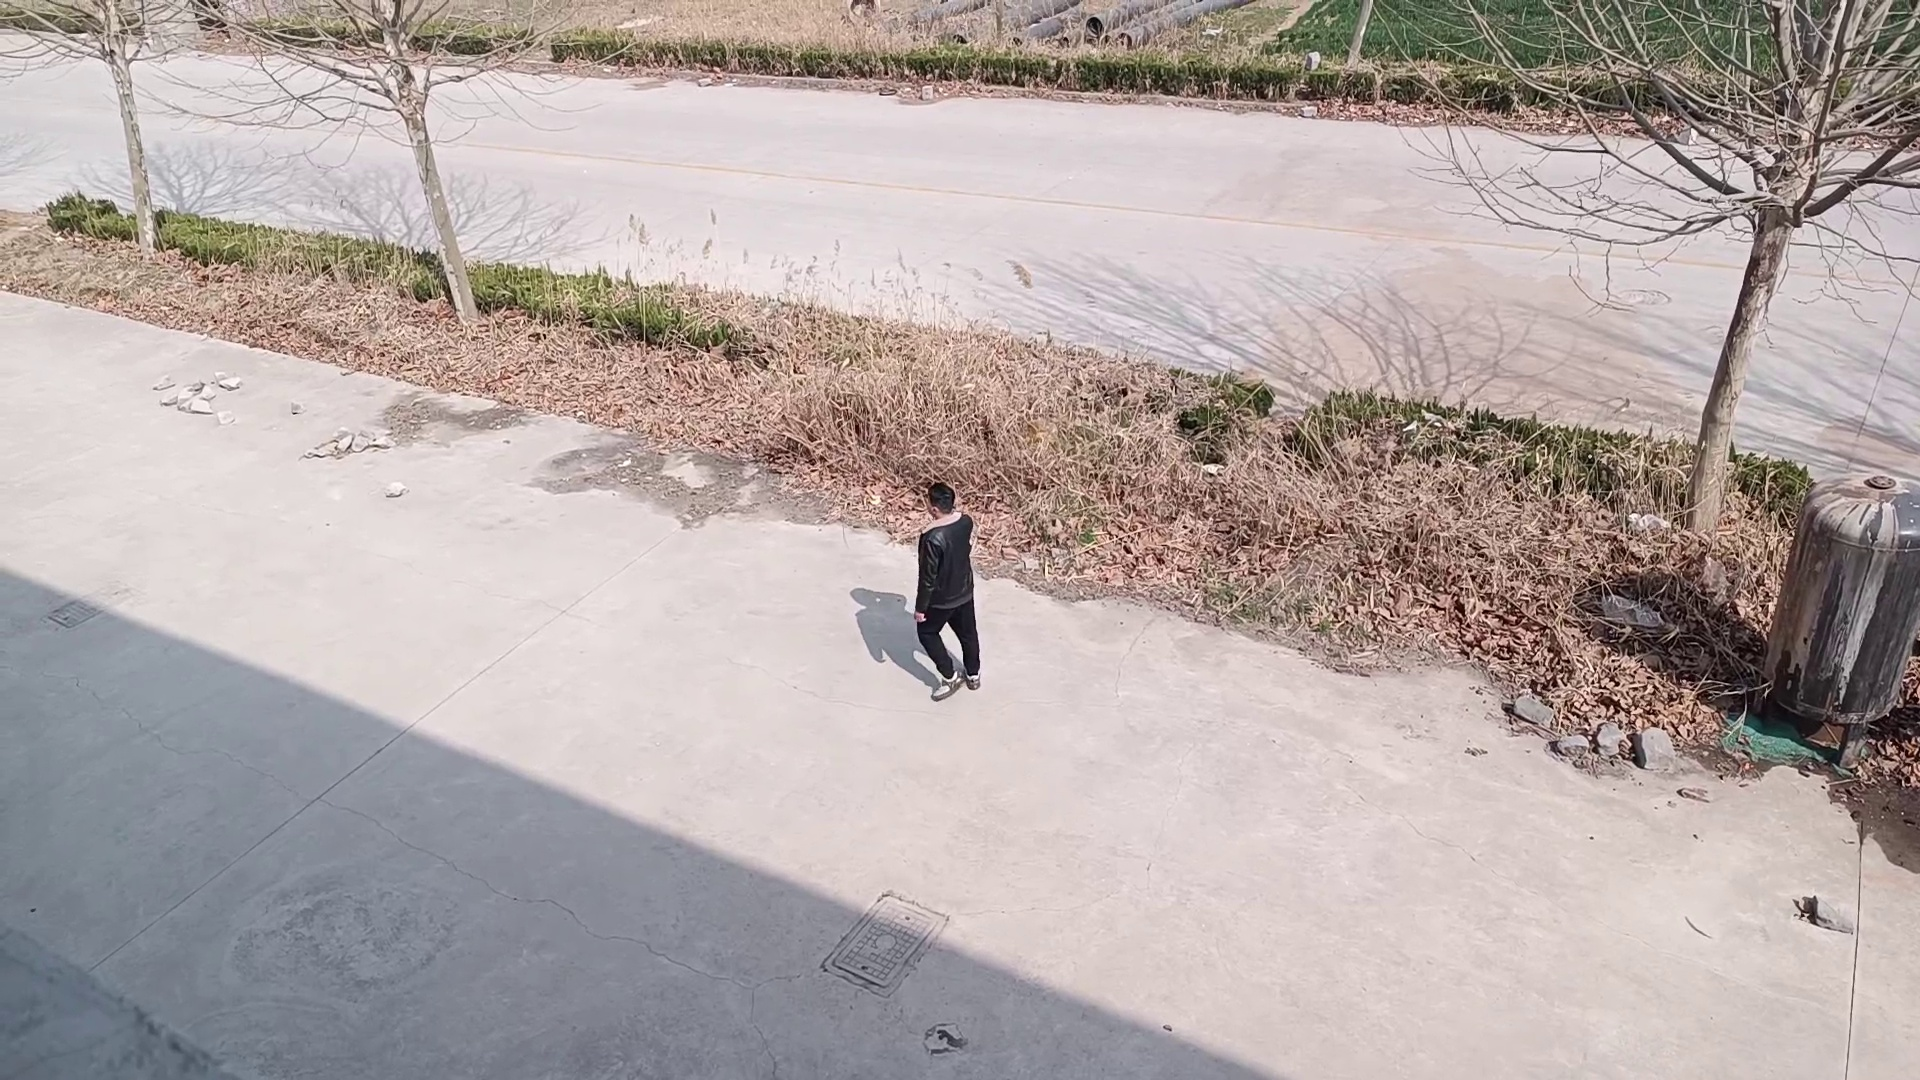phone: (916, 483, 968, 527)
